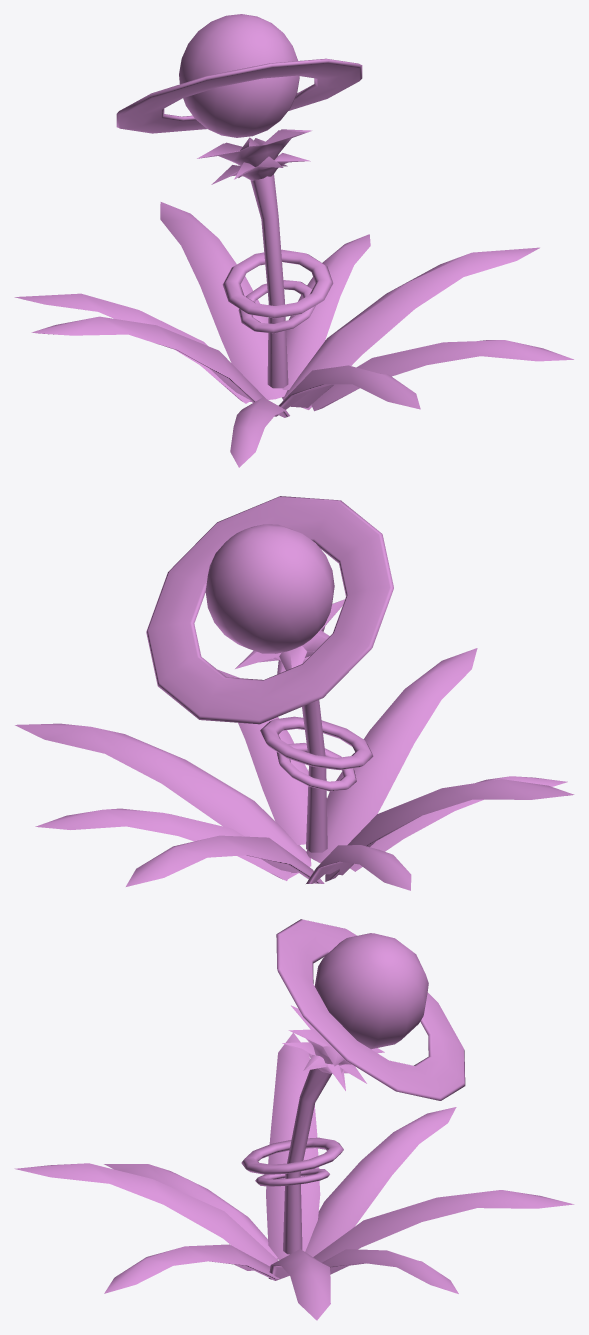
File: planetPlant_stage4.fbx
3 renders of one model, top to bottom at view 1: azimuth 30°, elevation 25°; view 2: azimuth 150°, elevation 25°; view 3: azimuth 270°, elevation 25°, orthographic. The views are drawn at different scales.
Visible parts, largest first — view 1: papple_fruit_rotten, papple_leaf02_rotten, papple_leaf06_rotten, papple_fruitRing_rotten, papple_leaf08_rotten, papple_leaf05_rotten, papple_leaf04_rotten, papple_stem_rotten, papple_stemRing01_rotten, papple_leaf01_rotten, papple_leaf07_rotten, papple_leaf03_rotten (+3 smaller); view 2: papple_fruitRing_rotten, papple_fruit_rotten, papple_leaf01_rotten, papple_leaf06_rotten, papple_leaf05_rotten, papple_leaf08_rotten, papple_leaf02_rotten, papple_leaf04_rotten, papple_stemRing01_rotten, papple_stem_rotten, papple_leaf07_rotten, papple_leaf03_rotten (+2 smaller); view 3: papple_fruitRing_rotten, papple_fruit_rotten, papple_leaf07_rotten, papple_leaf05_rotten, papple_leaf01_rotten, papple_leaf02_rotten, papple_stem_rotten, papple_leaf08_rotten, papple_leaf06_rotten, papple_leaf03_rotten, papple_leaf04_rotten, papple_stemRing01_rotten (+3 smaller).
Boxes of the visible parts, <box> form: papple_fruit_rotten: <box>179,14,299,137</box>; papple_leaf02_rotten: <box>160,202,287,401</box>; papple_leaf06_rotten: <box>282,247,539,409</box>; papple_fruitRing_rotten: <box>116,58,362,133</box>; papple_leaf08_rotten: <box>311,340,573,411</box>; papple_leaf05_rotten: <box>31,316,265,402</box>; papple_leaf04_rotten: <box>282,234,370,389</box>; papple_stem_rotten: <box>250,174,288,388</box>; papple_stemRing01_rotten: <box>222,249,333,318</box>; papple_leaf01_rotten: <box>274,365,420,416</box>; papple_leaf07_rotten: <box>14,293,250,403</box>; papple_leaf03_rotten: <box>230,397,289,467</box>; papple_fruitRing_rotten: <box>146,496,393,724</box>; papple_fruit_rotten: <box>205,524,334,653</box>; papple_leaf01_rotten: <box>306,648,477,863</box>; papple_leaf06_rotten: <box>15,723,311,878</box>; papple_leaf05_rotten: <box>325,779,574,881</box>; papple_leaf08_rotten: <box>218,670,308,844</box>; papple_leaf02_rotten: <box>126,835,324,886</box>; papple_leaf04_rotten: <box>35,808,291,880</box>; papple_stemRing01_rotten: <box>260,716,373,769</box>; papple_stem_rotten: <box>302,700,327,852</box>; papple_leaf07_rotten: <box>306,845,411,890</box>; papple_leaf03_rotten: <box>350,776,567,871</box>; papple_fruitRing_rotten: <box>276,919,465,1100</box>; papple_fruit_rotten: <box>314,933,428,1049</box>; papple_leaf07_rotten: <box>305,1107,456,1256</box>; papple_leaf05_rotten: <box>266,1033,320,1259</box>; papple_leaf01_rotten: <box>14,1163,278,1266</box>; papple_leaf02_rotten: <box>313,1190,574,1262</box>; papple_stem_rotten: <box>283,1068,331,1254</box>; papple_leaf08_rotten: <box>104,1244,279,1293</box>; papple_leaf06_rotten: <box>268,1249,330,1320</box>; papple_leaf03_rotten: <box>104,1164,277,1258</box>; papple_leaf04_rotten: <box>322,1249,458,1293</box>; papple_stemRing01_rotten: <box>241,1137,343,1174</box>.
Bounding box in the file's own units: 120 × 78.1 × 118.
